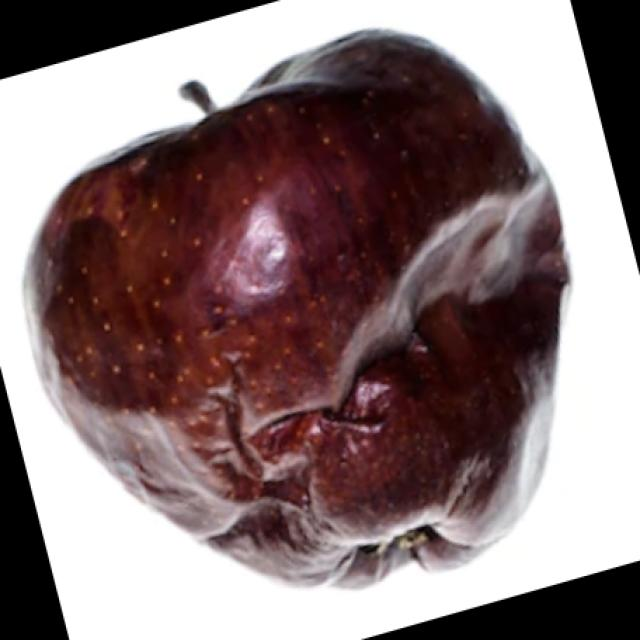organik: (0, 21, 600, 594)
